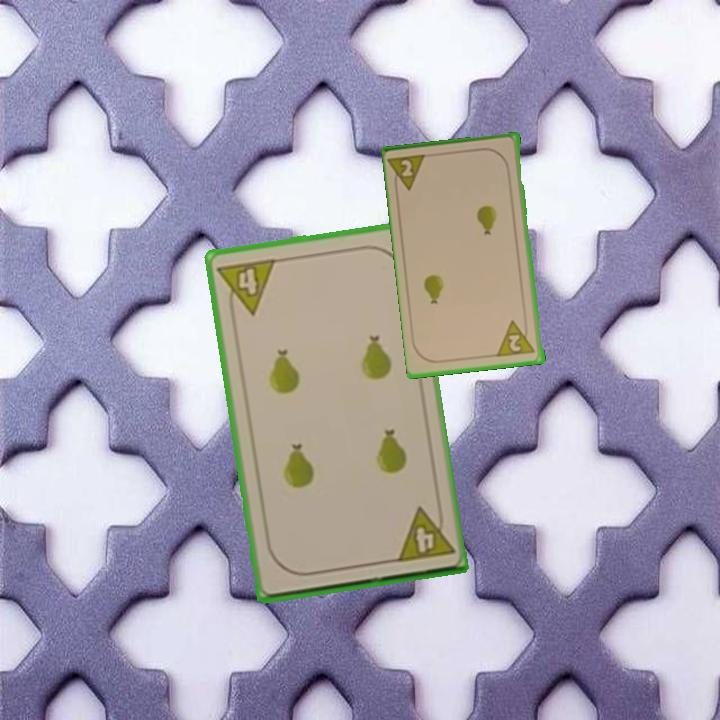2p: (387, 151, 431, 195), (495, 316, 538, 360)
4p: (214, 255, 279, 320), (392, 502, 457, 565)
